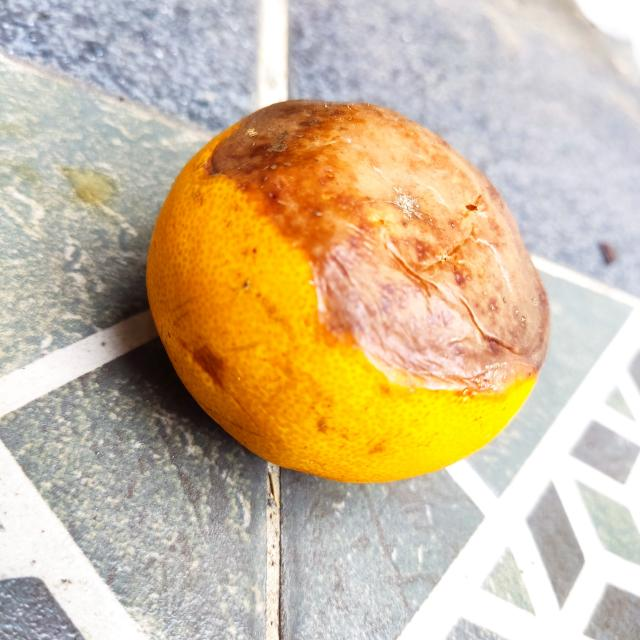orange: (136, 95, 550, 486)
